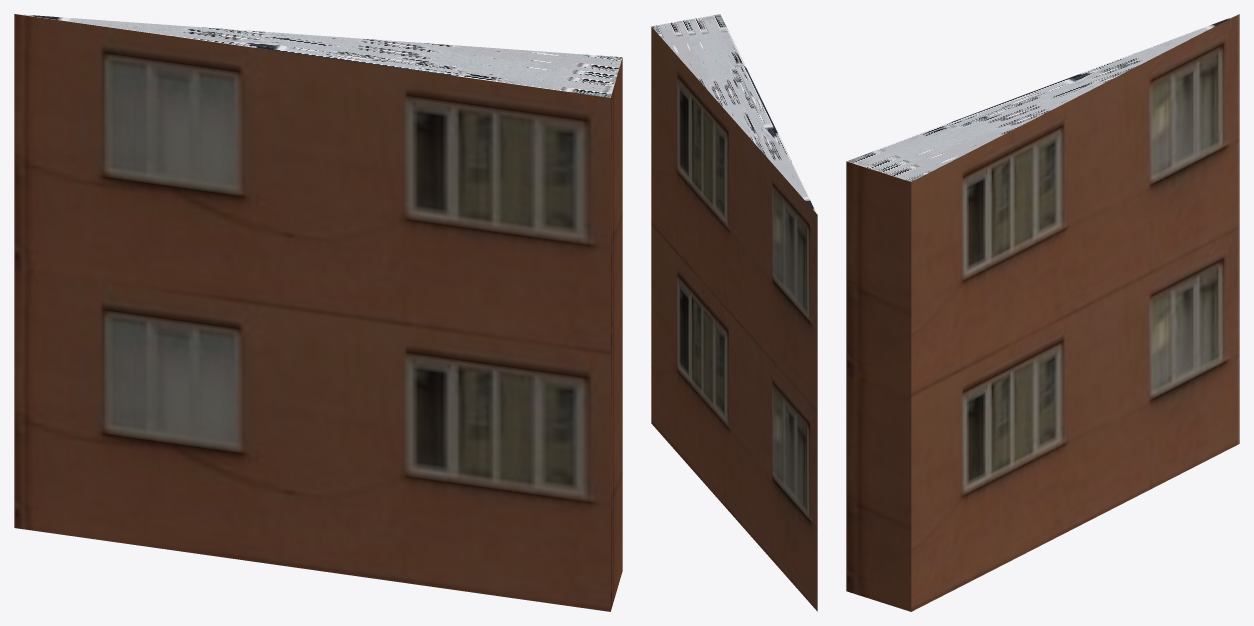
Rendered from ResTex__4350.fbx.
3 renders of one model, left to right at view 1: azimuth 30°, elevation 25°; view 2: azimuth 150°, elevation 25°; view 3: azimuth 270°, elevation 25°, orthographic. The views are drawn at different scales.
Parts seen in each view (by area): view 1: CityEngineMaterial_20_m, CityEngineMaterial_m; view 2: CityEngineMaterial_20_m, CityEngineMaterial_m; view 3: CityEngineMaterial_20_m, CityEngineMaterial_m.
Boxes of the visible parts, x1,y1,x2,y2 form: CityEngineMaterial_20_m: [14, 14, 622, 611]; CityEngineMaterial_m: [16, 14, 622, 97]; CityEngineMaterial_20_m: [651, 27, 817, 611]; CityEngineMaterial_m: [651, 14, 817, 214]; CityEngineMaterial_20_m: [846, 14, 1239, 611]; CityEngineMaterial_m: [847, 14, 1237, 181].
Bounding box in the file's own units: 5.03 × 6 × 4.97.
2 materials, 2 textured.
